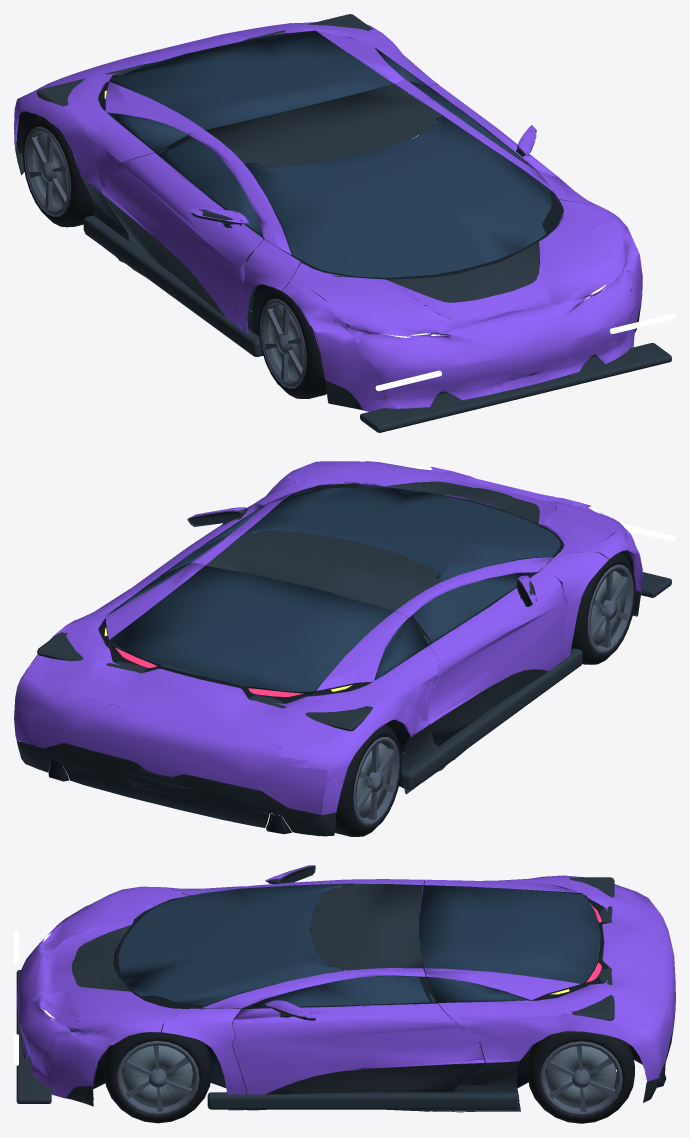
File: prism-lod1.glb
3 renders of one model, top to bottom at view 1: azimuth 30°, elevation 25°; view 2: azimuth 150°, elevation 25°; view 3: azimuth 270°, elevation 25°, orthographic. The views are drawn at different scales.
Visible parts, largest first — view 1: Body, WheelFrontR, WheelRearR; view 2: Body, WheelRearR, WheelFrontR; view 3: Body, WheelRearL, WheelFrontL.
Part boxes in pixels (x1,y1,x2,y2): Body: [14, 14, 675, 432]; WheelFrontR: [258, 282, 326, 398]; WheelRearR: [22, 115, 94, 227]; Body: [14, 461, 675, 836]; WheelRearR: [334, 724, 401, 836]; WheelFrontR: [571, 552, 635, 664]; Body: [14, 865, 675, 1112]; WheelRearL: [527, 1031, 634, 1123]; WheelFrontL: [104, 1023, 211, 1123].
Size of the model in its own units: 2.57 by 1.03 by 4.73.
